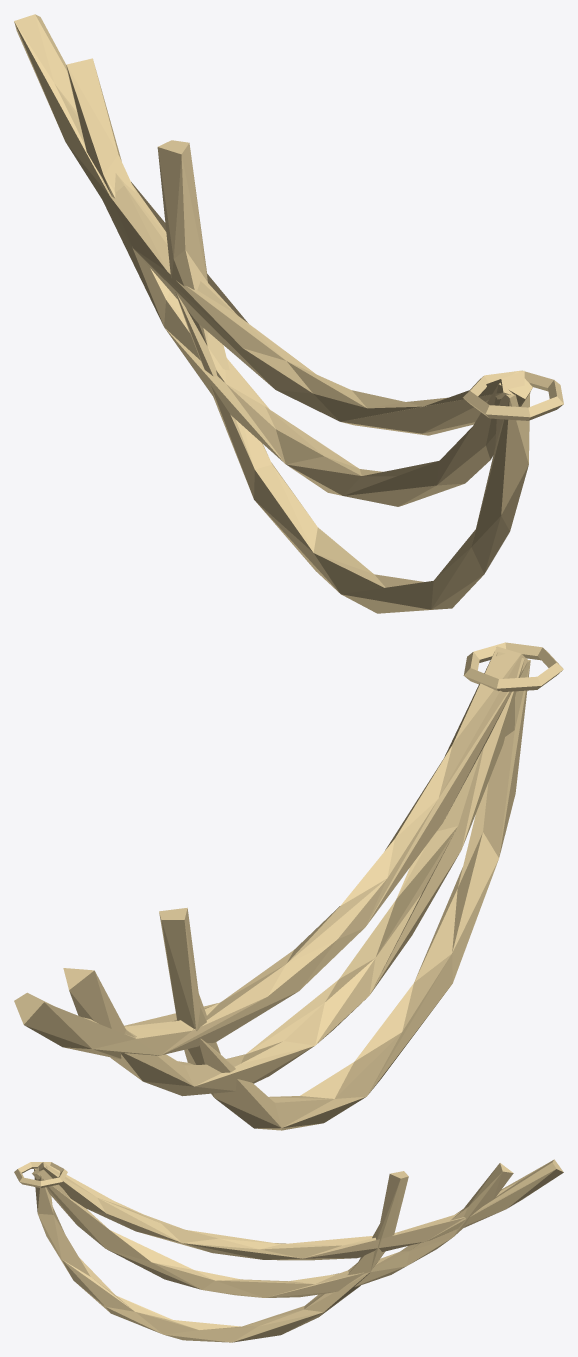
File: more voyage assets.fbx
3 views of the same model, one above another, from view 1: azimuth 30°, elevation 25°; view 2: azimuth 150°, elevation 25°; view 3: azimuth 270°, elevation 25° (orthographic). The views are drawn at different scales.
Visible parts, largest first — view 1: Arch 180º.001, Arch 80º, Arch 120º, Torus; view 2: Arch 180º.001, Arch 80º, Arch 120º, Torus; view 3: Arch 80º, Arch 180º.001, Arch 120º, Torus.
Boxes of the visible parts, x1=… form: Arch 180º.001: x1=157, y1=140, x2=530, y2=613; Arch 80º: x1=14, y1=14, x2=524, y2=435; Arch 120º: x1=66, y1=58, x2=532, y2=506; Torus: x1=463, y1=370, x2=563, y2=420; Arch 180º.001: x1=159, y1=660, x2=530, y2=1130; Arch 80º: x1=14, y1=646, x2=528, y2=1059; Arch 120º: x1=63, y1=651, x2=524, y2=1096; Torus: x1=463, y1=642, x2=563, y2=691; Arch 80º: x1=38, y1=1159, x2=563, y2=1260; Arch 180º.001: x1=34, y1=1168, x2=408, y2=1342; Arch 120º: x1=32, y1=1163, x2=513, y2=1297; Torus: x1=14, y1=1162, x2=67, y2=1187.
Size of the model in its own units: 447 by 1689 by 4665.
Materials: 1 (1 with a texture image).
